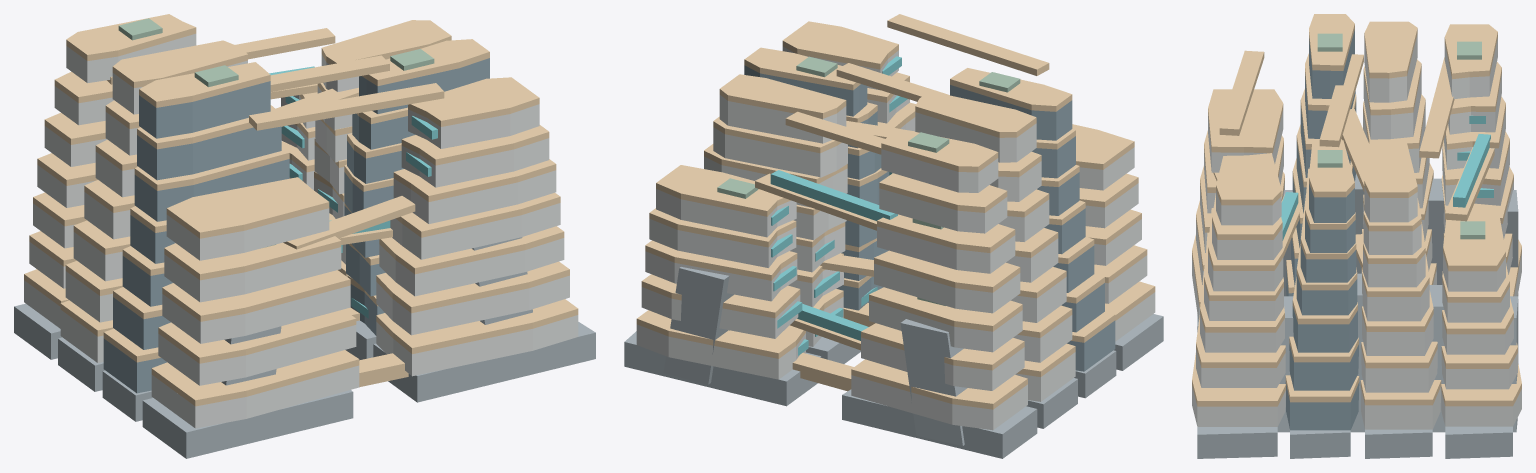
The model's file is a20_faulted_civic_strata.glb.
The picture shows the model from 3 angles, left to right: view 1: azimuth 30°, elevation 25°; view 2: azimuth 150°, elevation 25°; view 3: azimuth 270°, elevation 25°; orthographic projection. The views are drawn at different scales.
Size of the model in its own units: 243 by 174 by 185.
